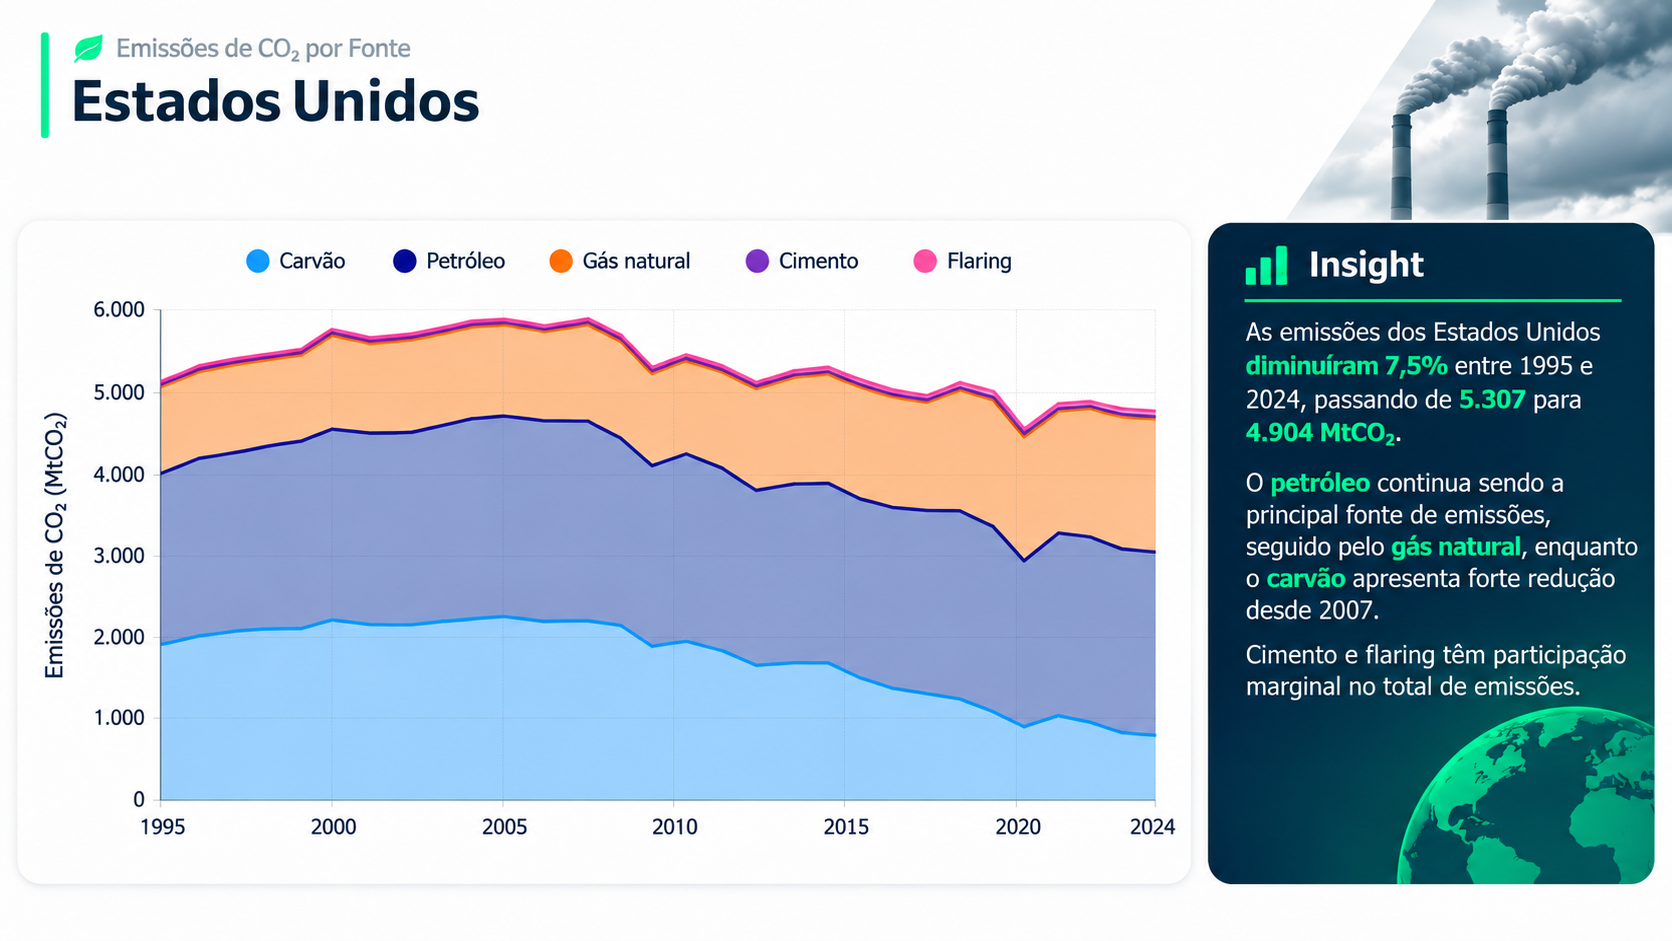

The page's visual inventory and layout, read from the dashboard file:
{"tool":"powerbi","page":{"name":"Pergunta 3 - EUA","canvas":[1280,720],"ordinal":5},"visuals":[{"type":"stackedAreaChart","title":"Evolução das Emissões de CO₂ por Fonte — Estados Unidos (1995–2024)","fields":{"Category":["co2-data.year"],"Y":["Sum(co2-data.coal_co2)","Sum(co2-data.oil_co2)","Sum(co2-data.gas_co2)","Sum(co2-data.cement_co2)","Sum(co2-data.flaring_co2)"]},"box":[0,0,1280.3,720.4],"z":0}]}

Visuals, with their boxes in screenshot pixels (x1, y1, x2, y2), scaled from the page's 1280x720 canvas onto the 1672x941 screenshot:
"Evolução das Emissões de CO₂ por Fonte — Estados Unidos (1995–2024)" stackedAreaChart: [0, 0, 1671, 940]
